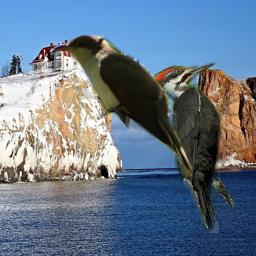Cuckoo: (49, 35, 192, 177), (211, 177, 234, 207)
Woodpecker: (147, 62, 245, 233)
